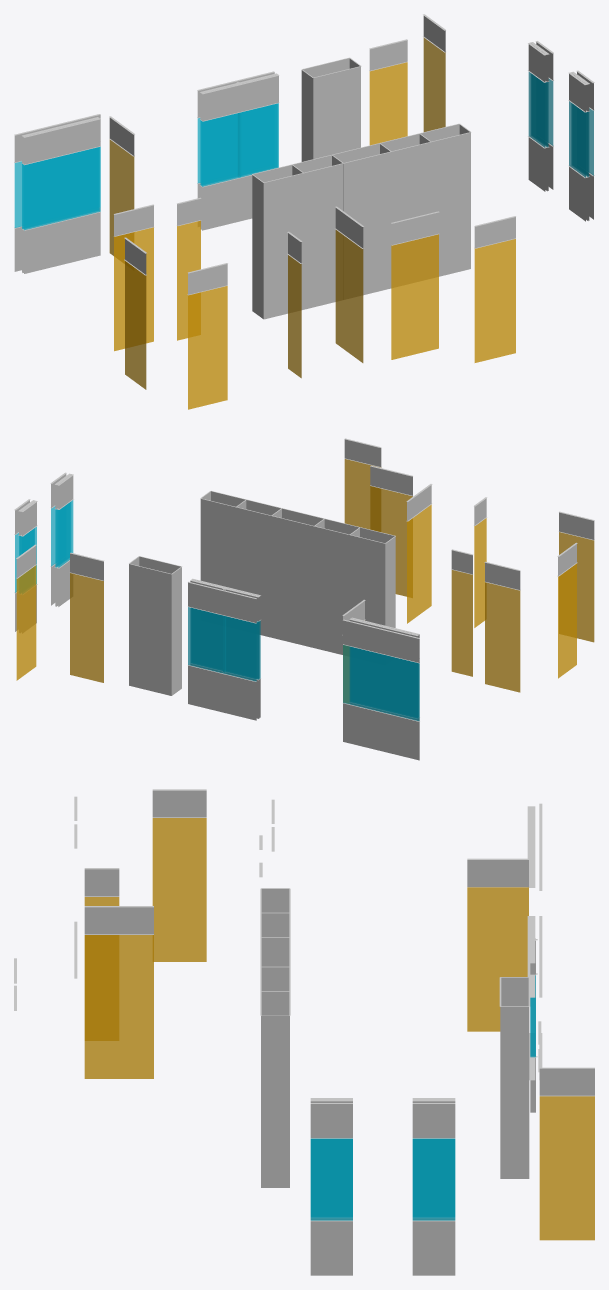
File: 6b507fa3-9d5a-430b-b6ad-960cca49226c_no_roof.glb
3 views of the same model, one above another, from view 1: azimuth 30°, elevation 25°; view 2: azimuth 150°, elevation 25°; view 3: azimuth 270°, elevation 25° (orthographic). The views are drawn at different scales.
Parts seen in each view (by area): view 1: walls, doors, windows; view 2: walls, doors, windows; view 3: walls, doors, windows.
Part boxes in pixels (x1=…): walls: x1=14, y1=14, x2=594, y2=319; doors: x1=109, y1=37, x2=515, y2=409; windows: x1=14, y1=72, x2=593, y2=230; walls: x1=14, y1=438, x2=594, y2=760; doors: x1=16, y1=459, x2=594, y2=703; windows: x1=15, y1=500, x2=419, y2=721; walls: x1=14, y1=789, x2=594, y2=1275; doors: x1=84, y1=818, x2=594, y2=1240; windows: x1=310, y1=975, x2=535, y2=1220.
Size of the model in its own units: 9.8 by 2.5 by 7.64.
